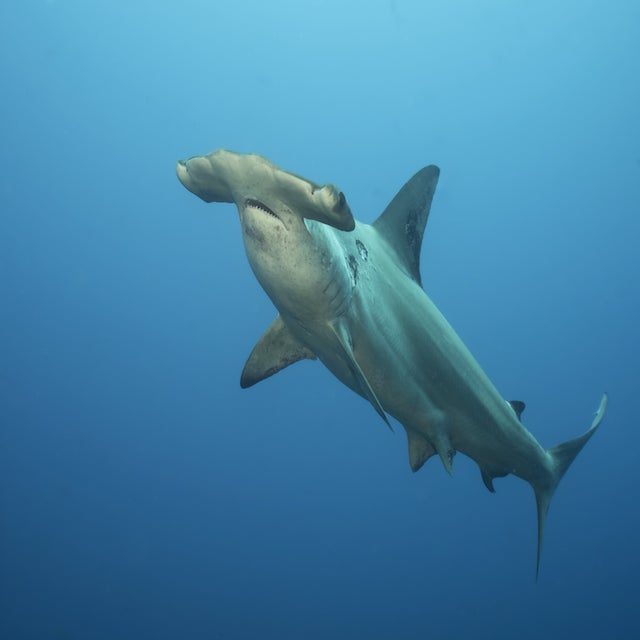hammerhead: (158, 131, 506, 457)
